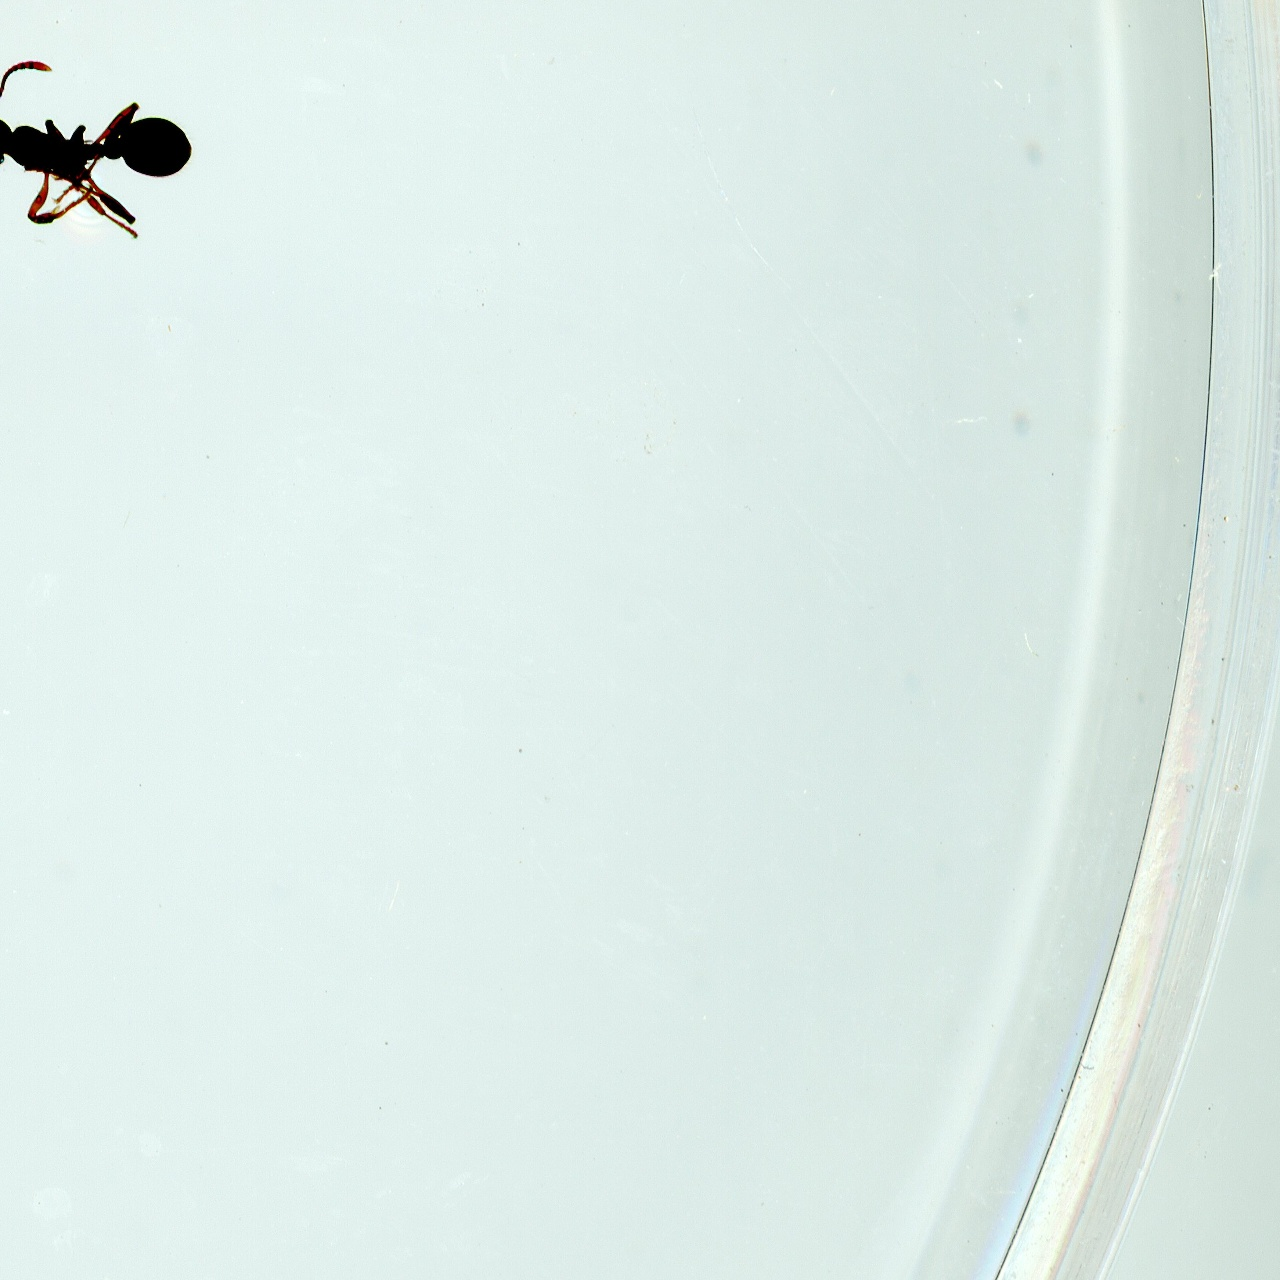arthropod: (0, 54, 205, 284)
